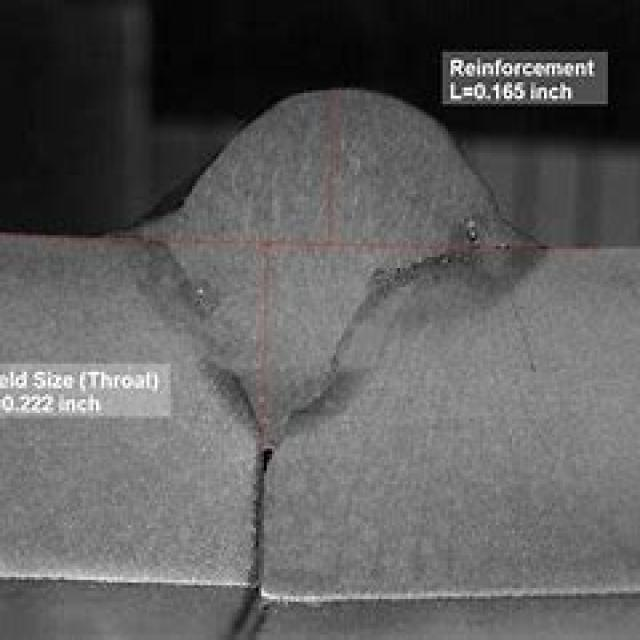Crack: (210, 437, 283, 640)
Excess Reinforcement: (141, 70, 562, 444)
